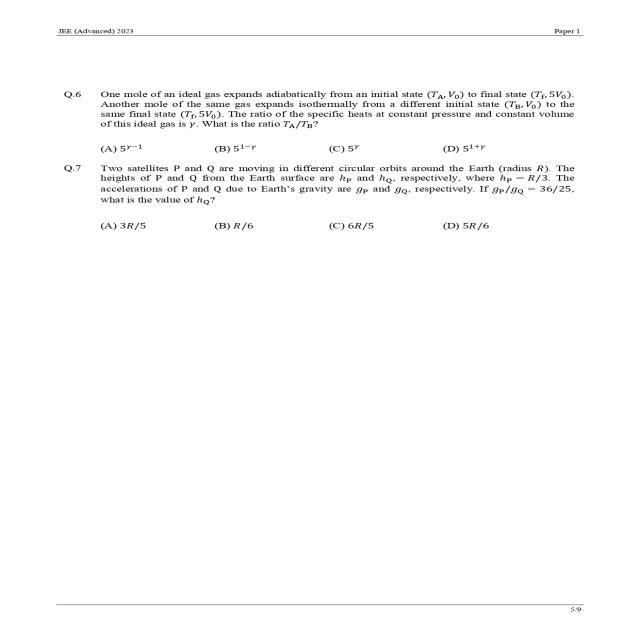Answer_Block: (40, 212, 609, 250), (40, 132, 609, 160)
Question_Block: (40, 57, 609, 132), (40, 162, 609, 210)
Question_Paper_Area: (38, 62, 608, 567)
